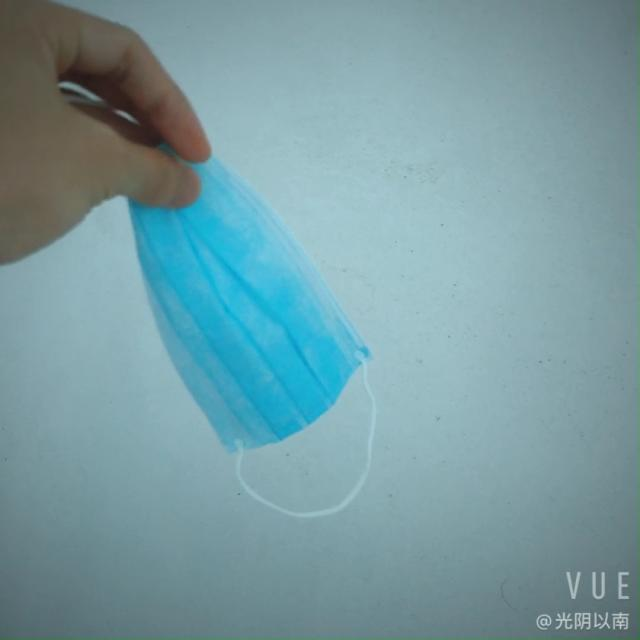non-organic waste: (94, 124, 388, 473)
